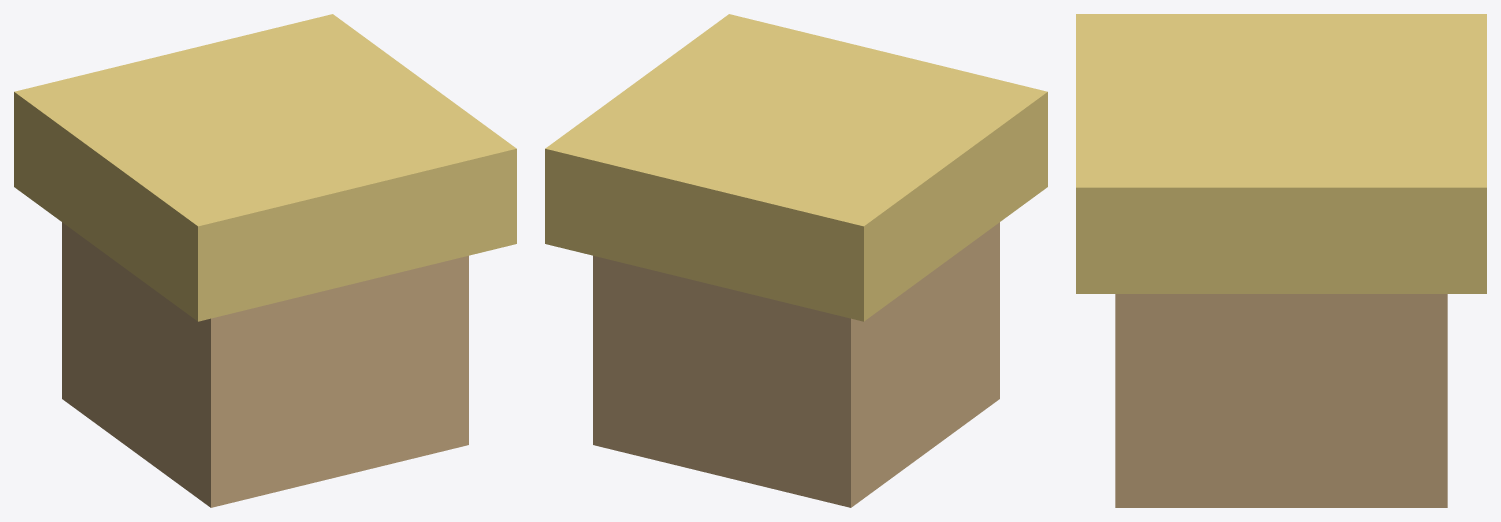
The model's file is tiki_totem_hut.glb.
The picture shows the model from 3 angles, left to right: view 1: azimuth 30°, elevation 25°; view 2: azimuth 150°, elevation 25°; view 3: azimuth 270°, elevation 25°; orthographic projection. The views are drawn at different scales.
Parts seen in each view (by area): view 1: thatch_roof, hut_base; view 2: thatch_roof, hut_base; view 3: thatch_roof, hut_base.
Boxes of the visible parts, x1,y1,x2,y2 form: thatch_roof: (14, 14, 516, 321); hut_base: (62, 222, 468, 507); thatch_roof: (545, 14, 1047, 321); hut_base: (593, 222, 999, 507); thatch_roof: (1076, 14, 1486, 293); hut_base: (1115, 294, 1447, 507).
Size of the model in its own units: 4.2 by 3.8 by 4.2.
